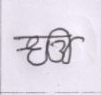i_matra: (51, 27, 75, 64)
